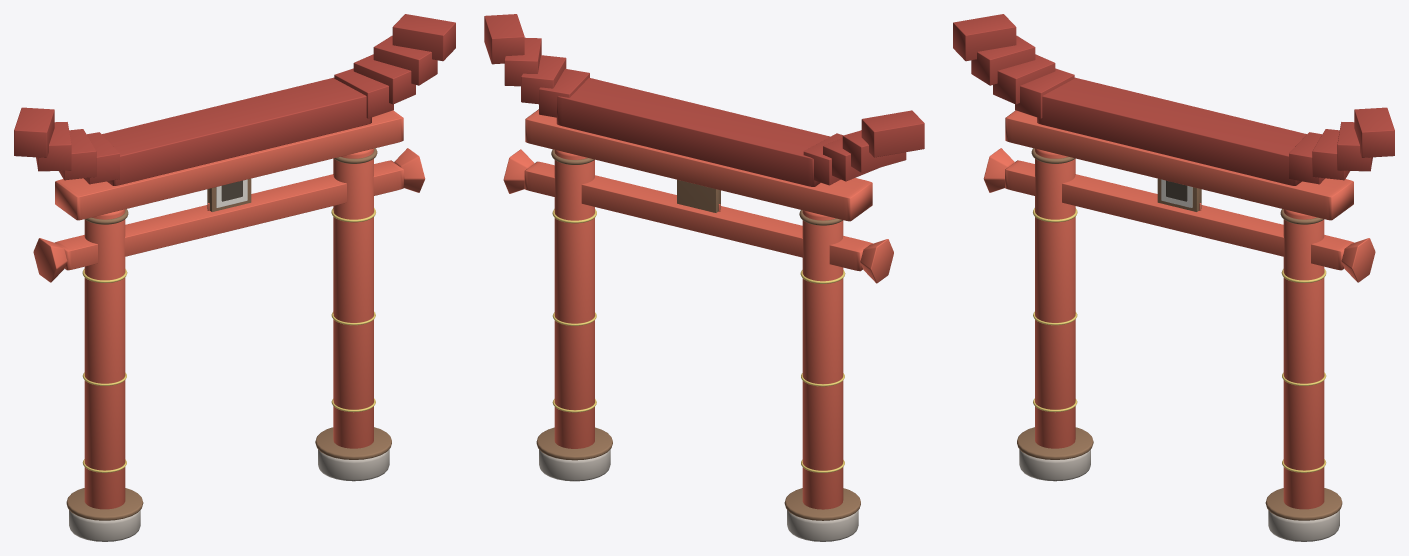
File: torii_v2.glb
The picture shows the model from 3 angles, left to right: view 1: azimuth 30°, elevation 25°; view 2: azimuth 150°, elevation 25°; view 3: azimuth 330°, elevation 25°; orthographic projection.
Visible parts, largest first — view 1: torii_v2; view 2: torii_v2; view 3: torii_v2.
Part boxes in pixels (x1,y1,x2,y2): torii_v2: [14, 14, 455, 541]; torii_v2: [484, 14, 924, 541]; torii_v2: [953, 14, 1394, 541].
Bounding box in the file's own units: 4.26 × 3.92 × 0.64.
